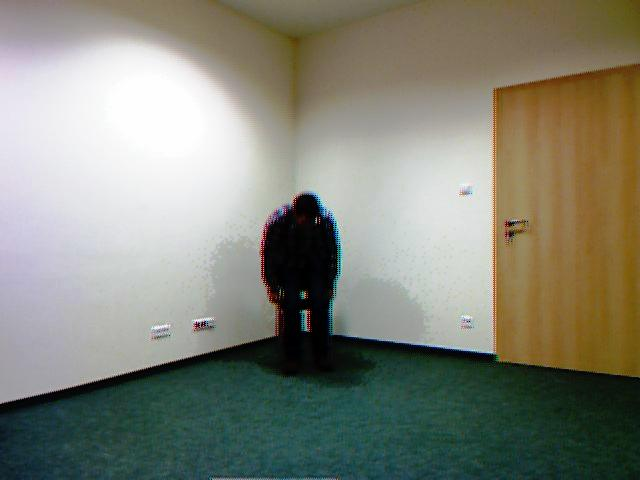bending: (256, 182, 358, 381)
